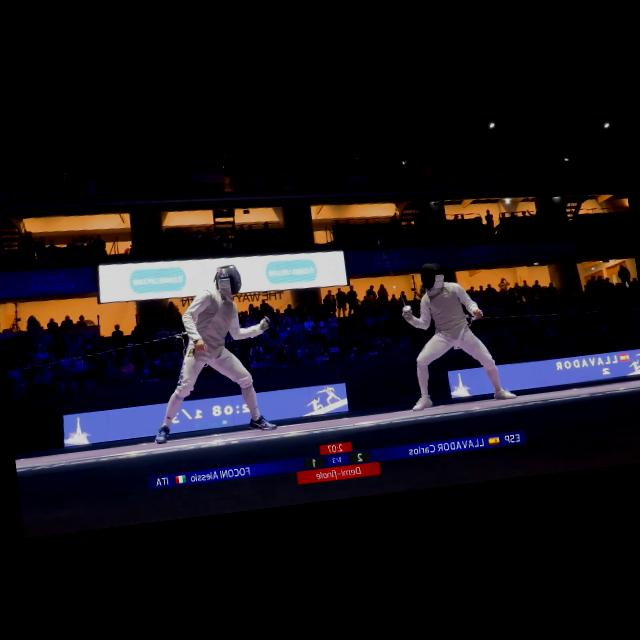blade: (375, 234, 415, 317)
